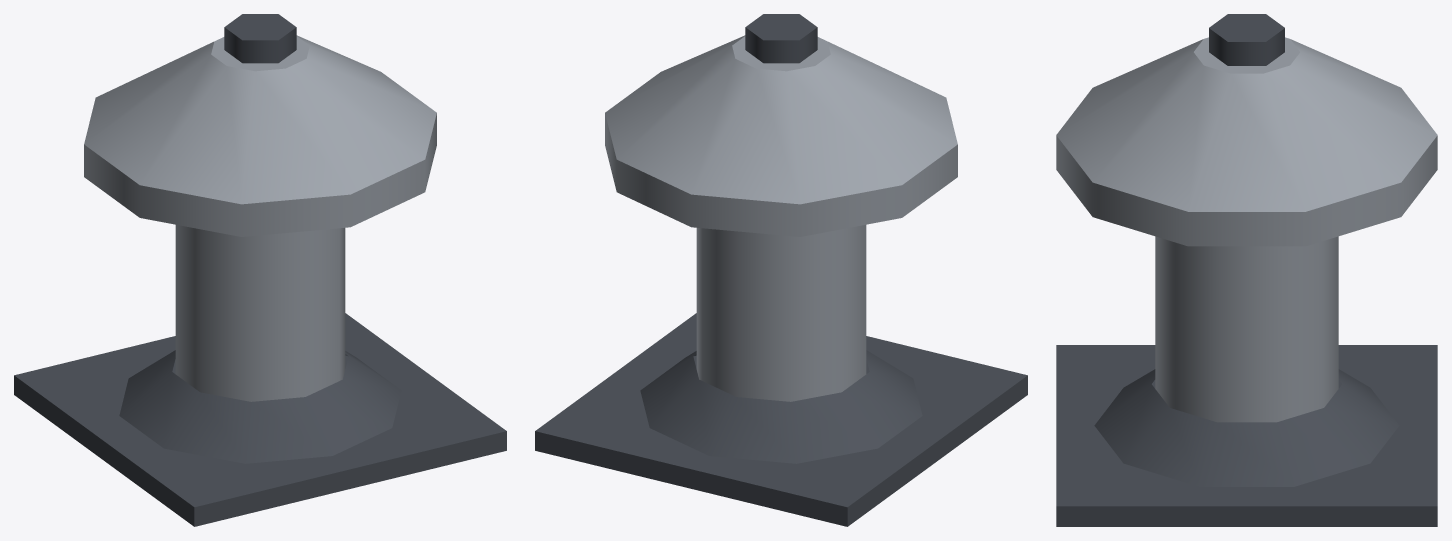
Rendered from roof_vent.glb.
The picture shows the model from 3 angles, left to right: view 1: azimuth 30°, elevation 25°; view 2: azimuth 150°, elevation 25°; view 3: azimuth 270°, elevation 25°; orthographic projection. The views are drawn at different scales.
Visible parts, largest first — view 1: roof_vent__mesh; view 2: roof_vent__mesh; view 3: roof_vent__mesh.
Boxes of the visible parts, x1,y1,x2,y2 form: roof_vent__mesh: [14, 14, 506, 526]; roof_vent__mesh: [535, 14, 1027, 526]; roof_vent__mesh: [1056, 14, 1437, 526].
Bounding box in the file's own units: 0.5 × 0.605 × 0.5.
Materials: 1 (1 with a texture image).
